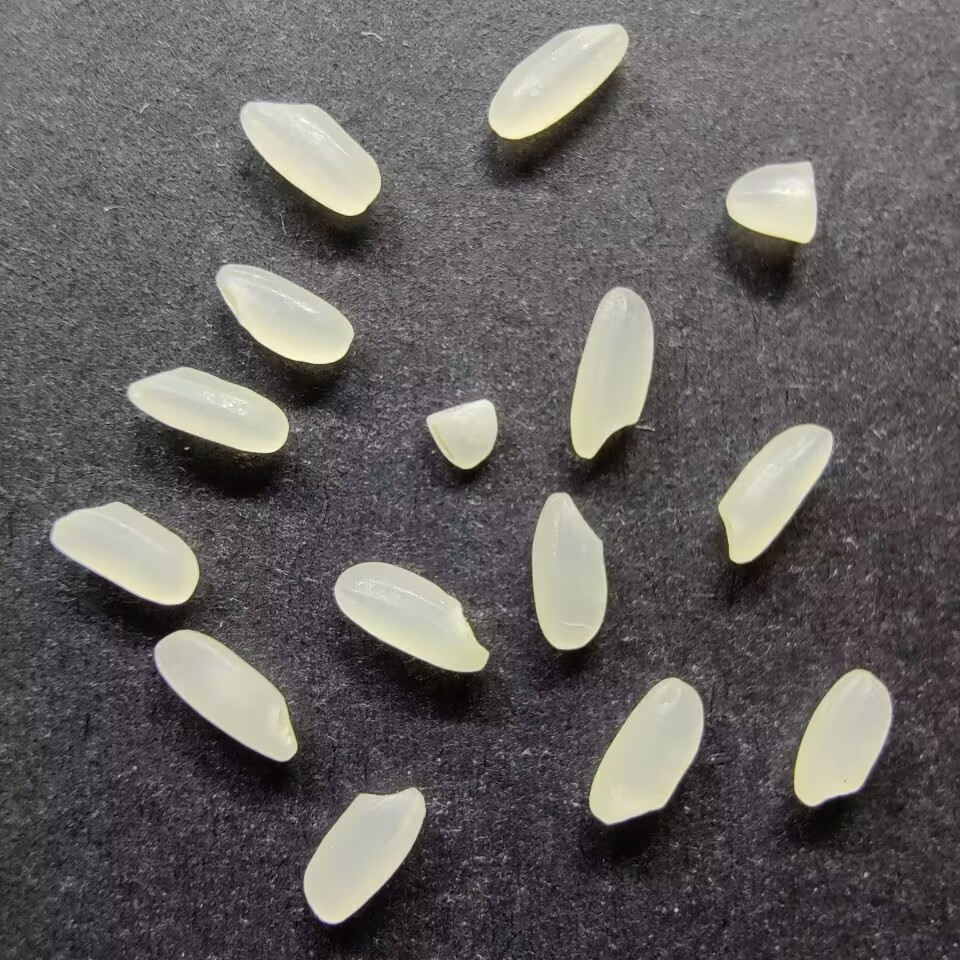broken: (723, 160, 821, 247), (425, 396, 498, 473)
rice: (151, 628, 300, 763), (587, 675, 705, 828), (332, 560, 490, 674), (484, 20, 631, 142), (300, 785, 427, 926), (715, 422, 836, 564), (238, 99, 383, 216), (48, 500, 201, 608), (124, 365, 290, 456), (569, 286, 655, 461), (791, 666, 895, 809), (213, 262, 356, 364), (528, 490, 610, 651)
